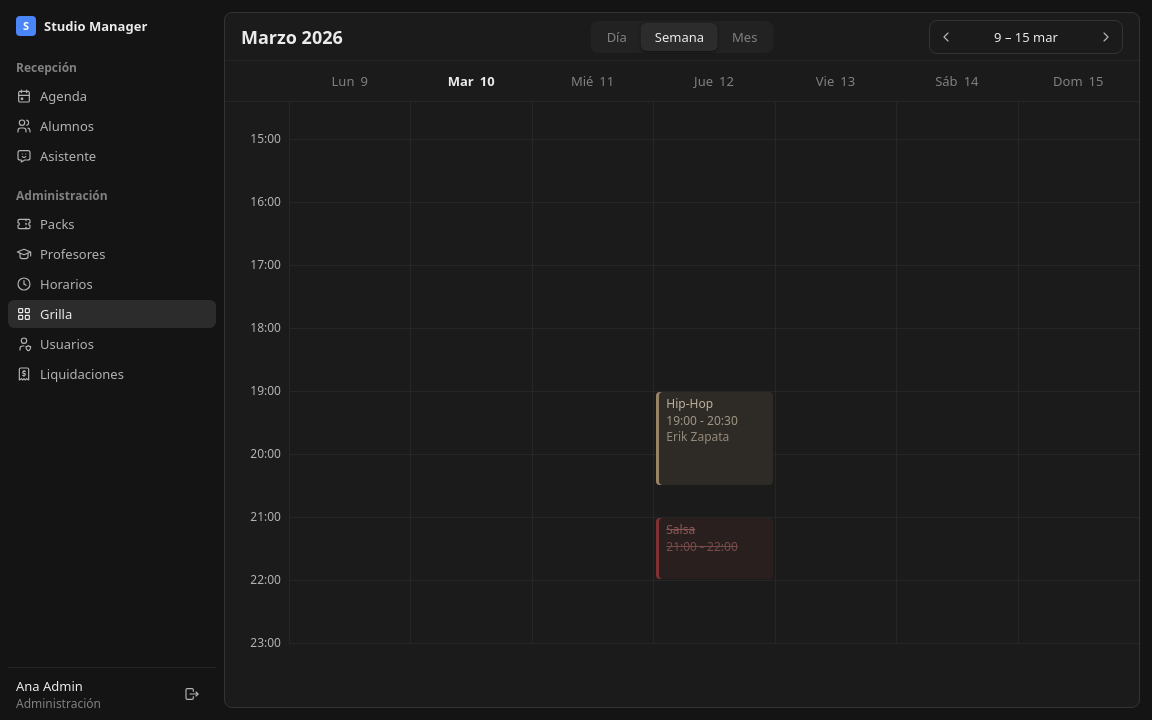
Scenario: /grilla: editar una semana › si la API rechaza el cambio, el aviso muestra el motivo
(page scrolled)
Step 1. Click the button "Hip-Hop 19:00 - 20:30 Erik Zapata" → {"x": 714, "y": 438}, box [656,392,773,484]
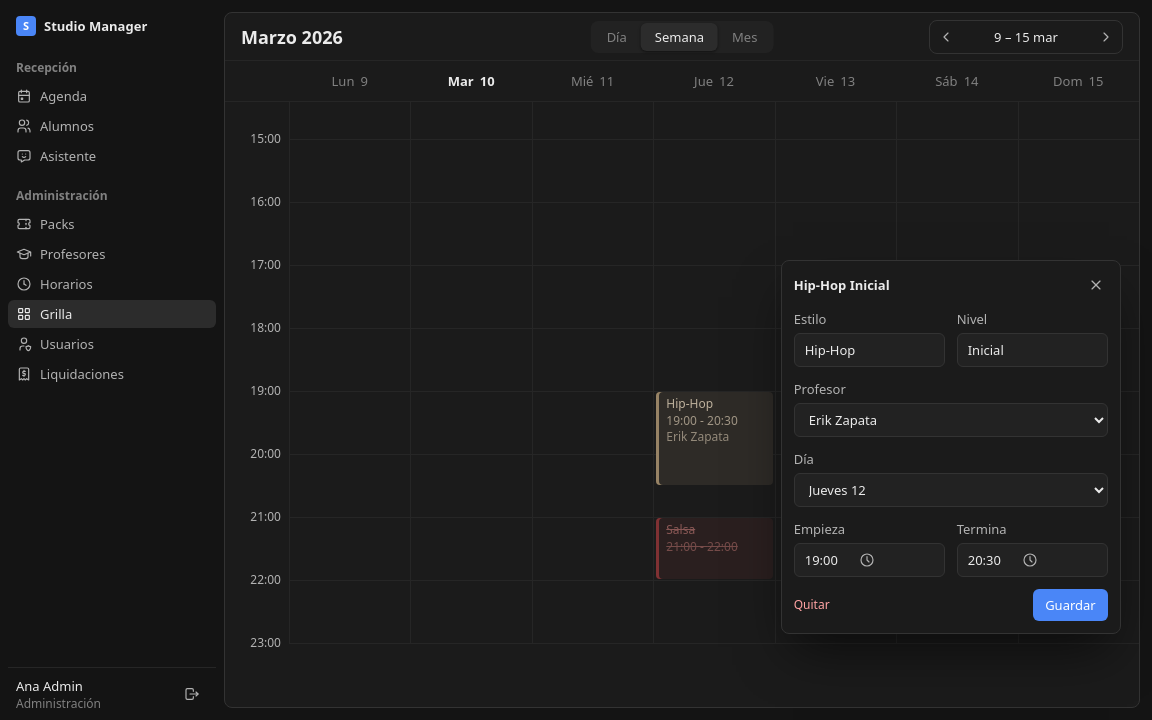
Step 2. Select "Viernes 13" in the dropdown labelled "Día" → {"x": 951, "y": 490}, box [794,473,1108,507]
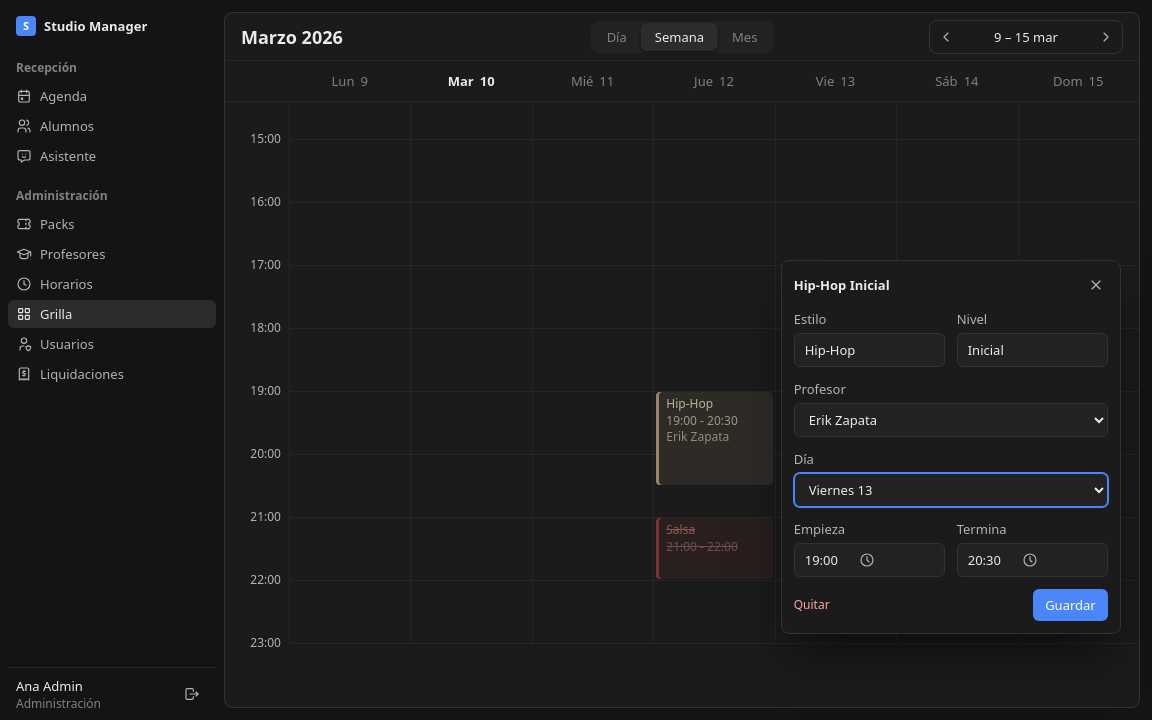
Step 3. Click the button "Guardar" → {"x": 1070, "y": 605}, box [1033,589,1108,621]
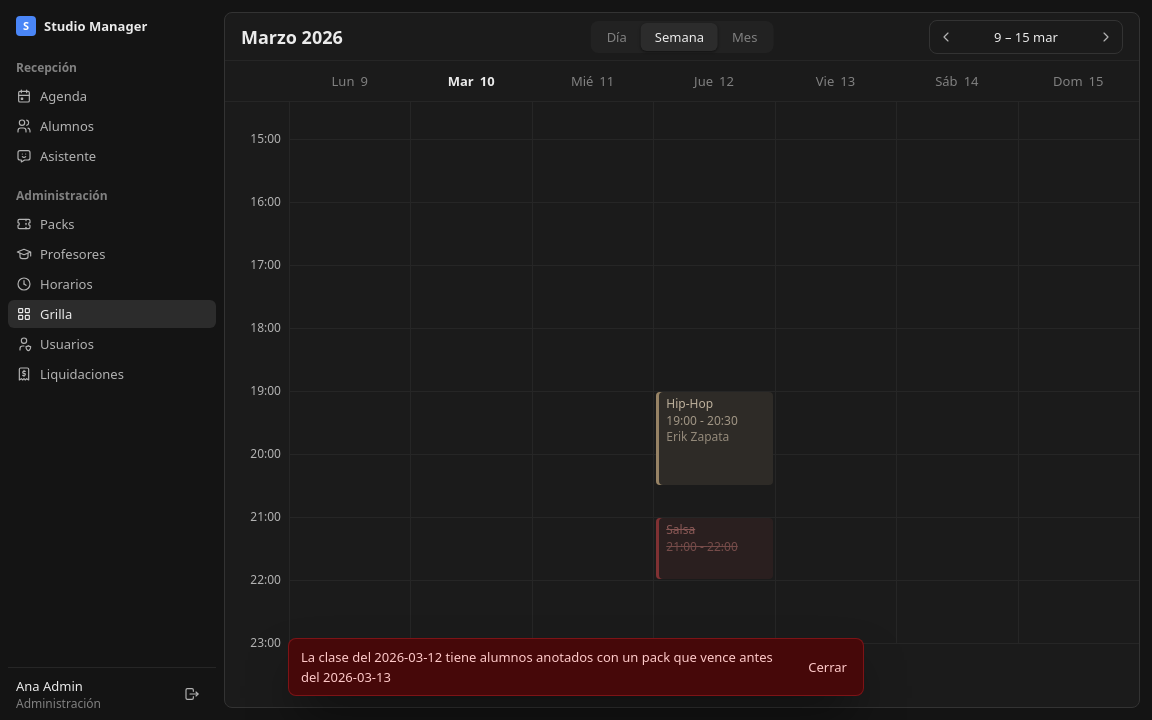
Expected: the message shows "La clase del 2026-03-12 tiene alumnos anotados con un pack que vence antes del 2026-03-13", [301,648,773,686]
